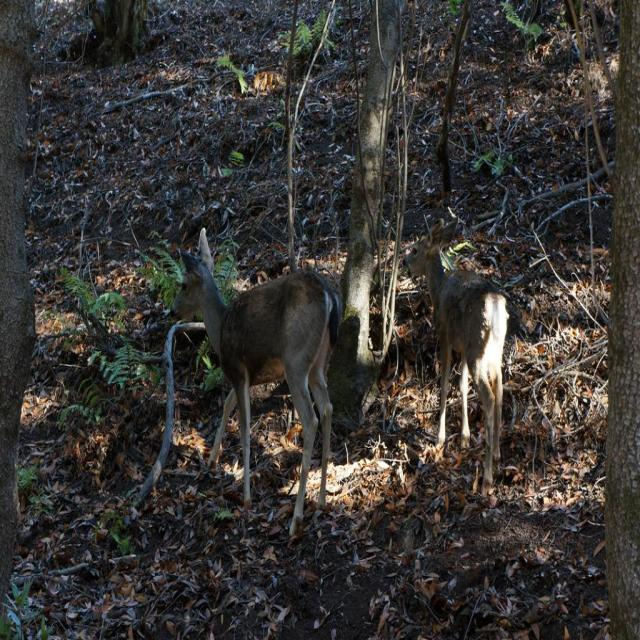Deer: (172, 228, 342, 536), (396, 210, 511, 481)
